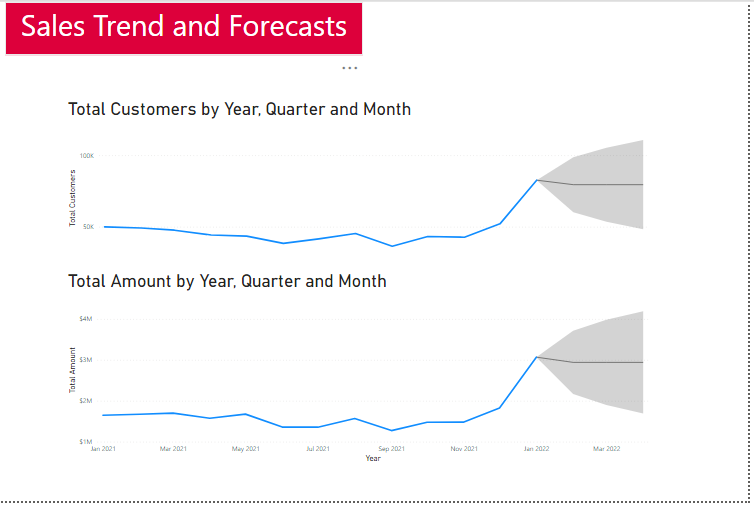

Layout of this report page (visuals, bound fields, positions):
{"tool":"powerbi","page":{"name":"sales trend and forecasting","canvas":[1380,920],"ordinal":1},"visuals":[{"type":"textbox","box":[9.2,0,660,97.7],"z":0},{"type":"lineChart","fields":{"Y":["sales.Total Customers"],"Category":["sales.Date.Variation.Date Hierarchy.Year","sales.Date.Variation.Date Hierarchy.Quarter","sales.Date.Variation.Date Hierarchy.Month","sales.Date.Variation.Date Hierarchy.Day"]},"box":[119.8,178.8,1097,357.7],"z":1},{"type":"lineChart","fields":{"Category":["sales.Date.Variation.Date Hierarchy.Year","sales.Date.Variation.Date Hierarchy.Quarter","sales.Date.Variation.Date Hierarchy.Month","sales.Date.Variation.Date Hierarchy.Day"],"Y":["sales.Total Amount"]},"box":[119.8,496,1097,357.7],"z":2}]}

Visuals, with their boxes in screenshot pixels (x1, y1, x2, y2), scaled from the page's 1380x920 canvas onto the 754x506 screenshot:
textbox: crop(5, 0, 366, 54)
lineChart - sales.Total Customers x sales.Date.Variation.Date Hierarchy.Year: crop(65, 98, 665, 295)
lineChart - sales.Date.Variation.Date Hierarchy.Year x sales.Date.Variation.Date Hierarchy.Quarter: crop(65, 273, 665, 470)
